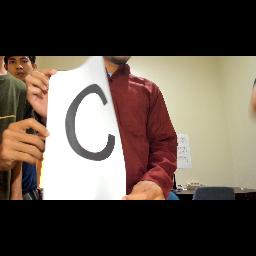c: (62, 76, 124, 164)
